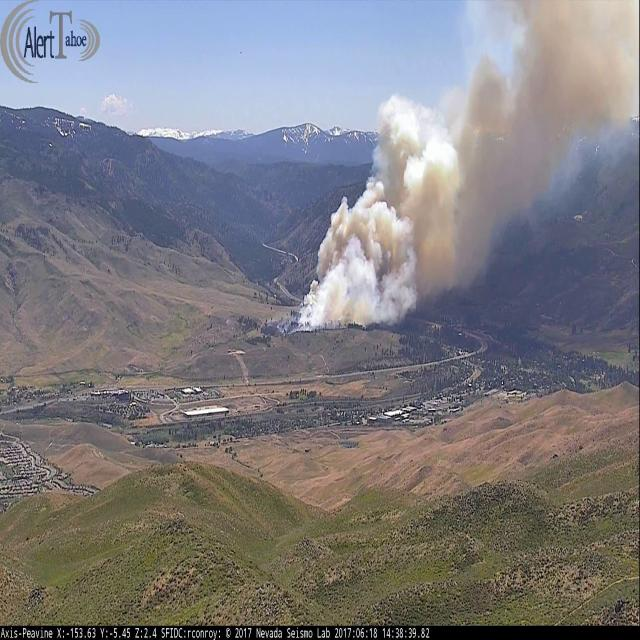smoke: (281, 0, 639, 346)
